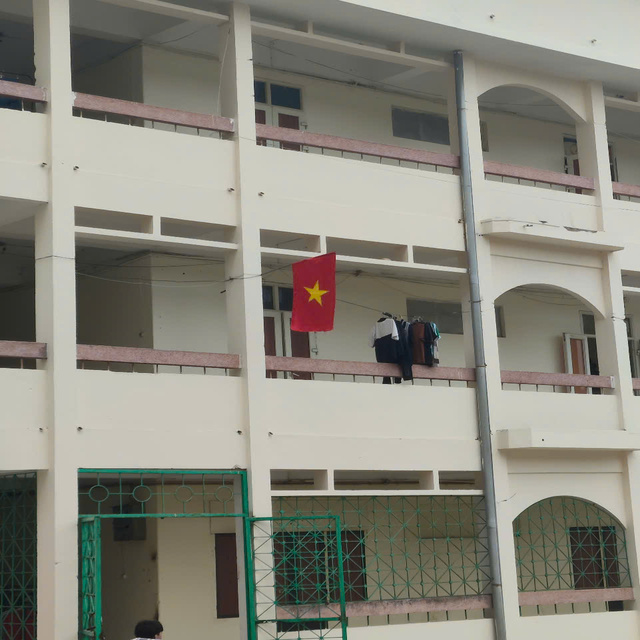laco: (286, 249, 344, 336)
